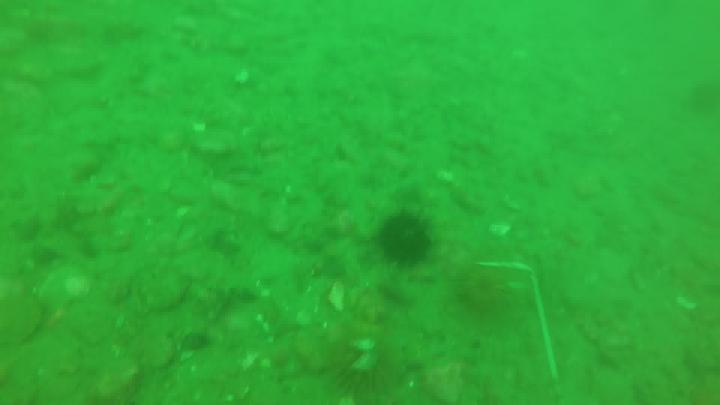echinus: (335, 330, 400, 398), (456, 254, 516, 324), (381, 207, 438, 267)
scallop: (37, 265, 93, 319), (328, 283, 347, 311)
